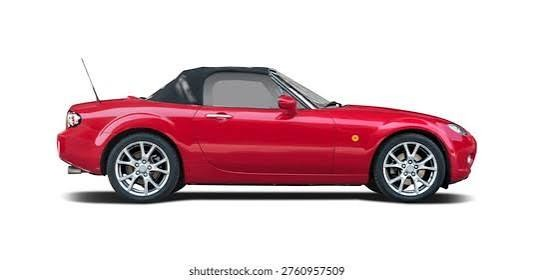car: (47, 65, 476, 203), (52, 66, 480, 202)
